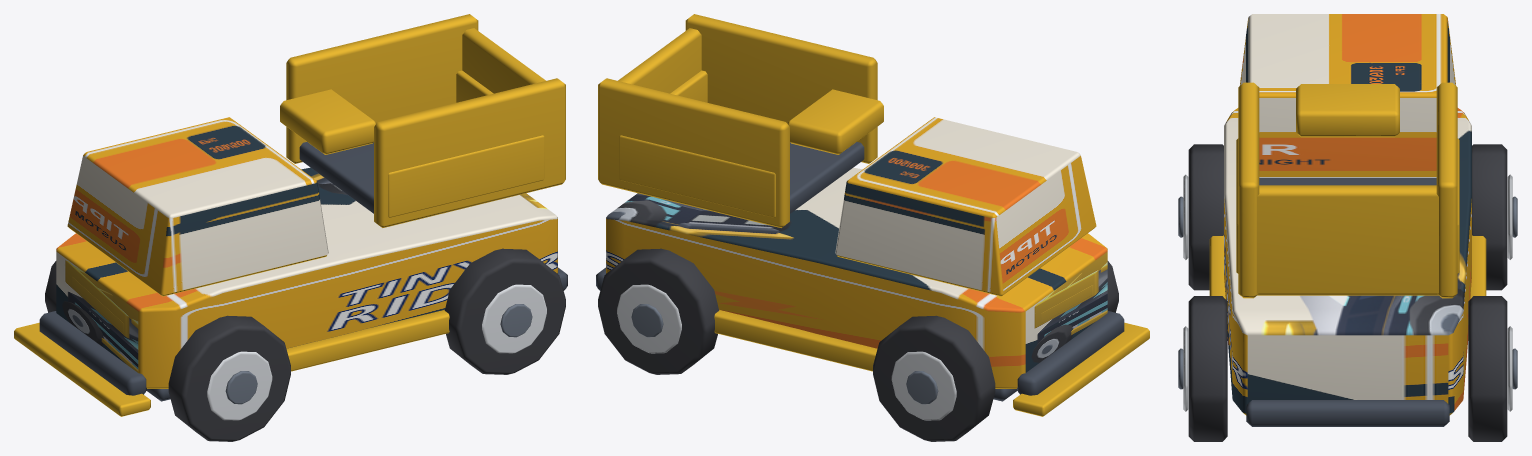
3 renders of one model, left to right at view 1: azimuth 30°, elevation 25°; view 2: azimuth 150°, elevation 25°; view 3: azimuth 270°, elevation 25°, orthographic. The views are drawn at different scales.
Visible parts, largest first — view 1: WY-01_connected_shell, WY-01_cabin, raised tipper wall, raised tipper wall.001, Tire, Tire.002, cargo side, custom equipment, custom side guard, custom chin, front bumper, raised tail gate (+6 smaller); view 2: WY-01_connected_shell, WY-01_cabin, raised tipper wall.001, raised tipper wall, Tire.001, Tire.003, cargo side.001, custom equipment, custom side guard.001, custom chin, front bumper, raised tail gate (+6 smaller); view 3: WY-01_connected_shell, WY-01_cabin, raised tail gate, Tire.002, Tire.003, custom equipment, rear bumper, Tire, Tire.001, raised tipper wall, raised tipper wall.001, cargo floor (+8 smaller).
Boxes of the visible parts, box(x1,y1,x2,y2) form: WY-01_connected_shell: box(56, 167, 557, 388); WY-01_cabin: box(67, 117, 328, 296); raised tipper wall: box(374, 78, 565, 227); raised tipper wall.001: box(286, 14, 478, 163); Tire: box(168, 315, 290, 441); Tire.002: box(444, 248, 565, 374); cargo side: box(388, 135, 544, 217); custom equipment: box(280, 89, 376, 154); custom side guard: box(286, 310, 449, 371); custom chin: box(14, 322, 150, 416); front bumper: box(39, 311, 146, 395); raised tail gate: box(462, 28, 545, 93); WY-01_connected_shell: box(606, 167, 1107, 388); WY-01_cabin: box(835, 117, 1096, 296); raised tipper wall.001: box(598, 78, 789, 227); raised tipper wall: box(685, 14, 877, 163); Tire.001: box(873, 315, 995, 441); Tire.003: box(598, 248, 719, 374); cargo side.001: box(619, 135, 775, 217); custom equipment: box(787, 89, 883, 154); custom side guard.001: box(714, 310, 877, 371); custom chin: box(1013, 322, 1149, 416); front bumper: box(1017, 311, 1124, 395); raised tail gate: box(618, 28, 701, 93); WY-01_connected_shell: box(1224, 108, 1471, 415); WY-01_cabin: box(1240, 14, 1455, 177); raised tail gate: box(1257, 185, 1438, 295); Tire.002: box(1188, 296, 1227, 441); Tire.003: box(1468, 296, 1507, 441); custom equipment: box(1296, 84, 1399, 137); rear bumper: box(1246, 400, 1449, 426); Tire: box(1188, 144, 1223, 290); Tire.001: box(1472, 144, 1507, 290); raised tipper wall: box(1238, 82, 1259, 298); raised tipper wall.001: box(1436, 82, 1457, 298); cargo floor: box(1259, 178, 1436, 185).
Bounding box in the file's own units: 401 × 216 × 227.
